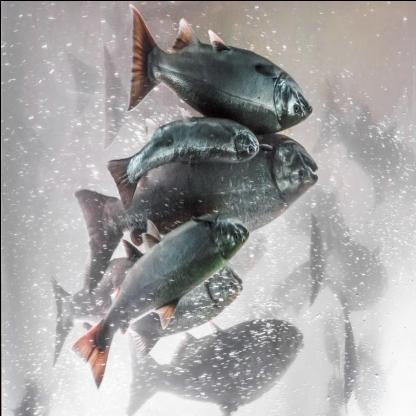fish: (81, 128, 317, 288), (74, 215, 248, 386), (126, 7, 315, 137), (118, 312, 304, 415), (100, 61, 258, 153), (104, 119, 258, 210), (338, 312, 394, 415)
